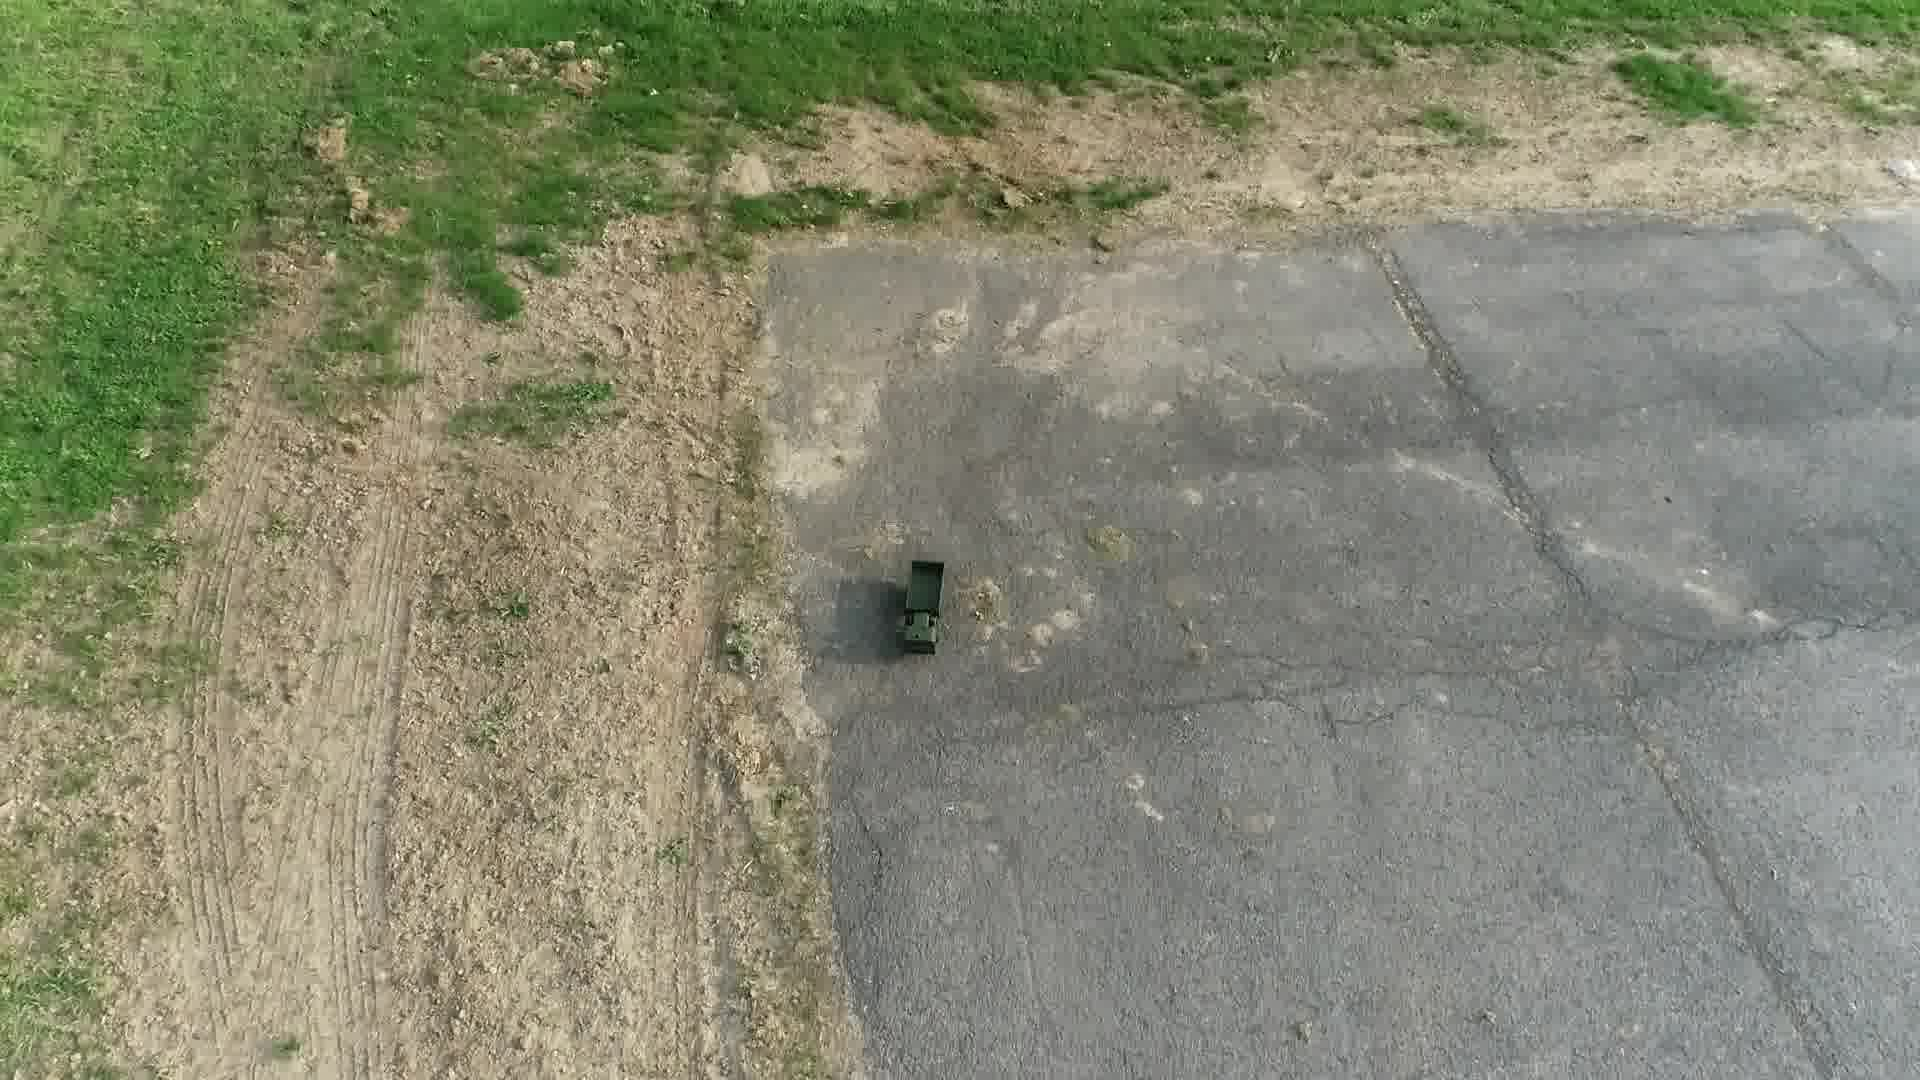transporter9: (894, 554, 952, 659)
